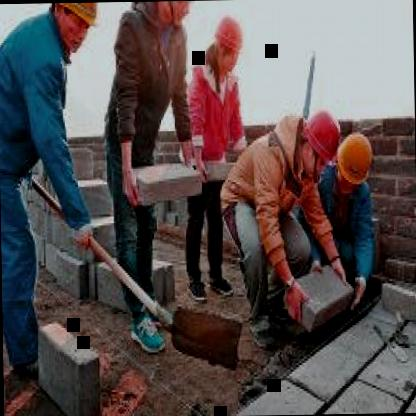helmet: (44, 2, 106, 57), (300, 100, 342, 176), (209, 8, 244, 80), (335, 130, 376, 191), (151, 0, 202, 33)
